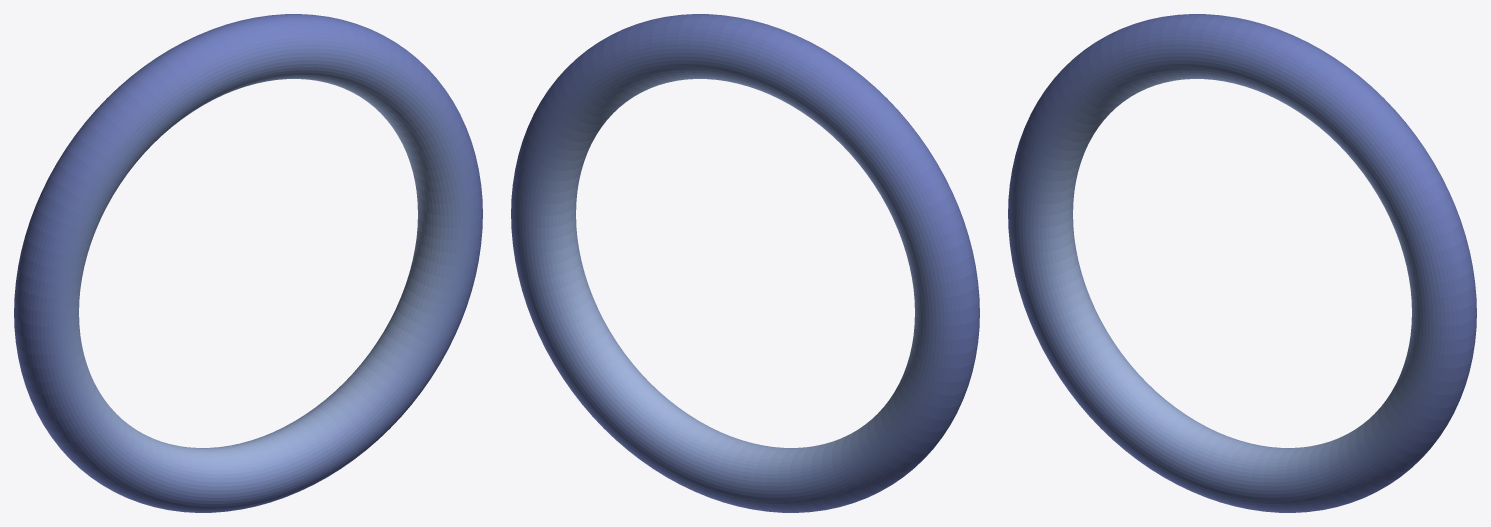
3 views of the same model, side by side, from view 1: azimuth 30°, elevation 25°; view 2: azimuth 150°, elevation 25°; view 3: azimuth 330°, elevation 25° (orthographic).
Parts seen in each view (by area): view 1: world; view 2: world; view 3: world.
Boxes of the visible parts, box(x1,y1,x2,y2) form: world: box(14, 14, 482, 512); world: box(511, 14, 979, 512); world: box(1008, 14, 1476, 512).
Size of the model in its own units: 25.07 by 25.07 by 3.06.
